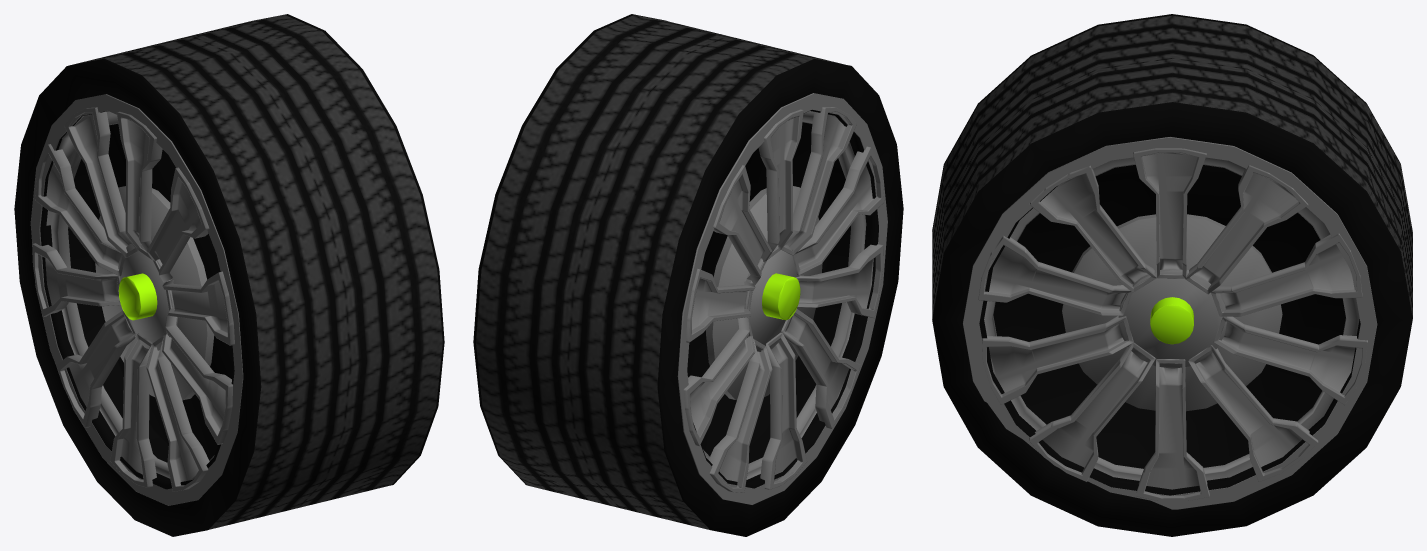
Rendered from 918_wheel.obj.
The picture shows the model from 3 angles, left to right: view 1: azimuth 30°, elevation 25°; view 2: azimuth 150°, elevation 25°; view 3: azimuth 270°, elevation 25°; orthographic projection.
Visible parts, largest first — view 1: 918car; view 2: 918car; view 3: 918car.
Part boxes in pixels (bbox=[...]): 918car: bbox=[14, 14, 444, 536]; 918car: bbox=[473, 14, 903, 536]; 918car: bbox=[932, 14, 1412, 536].
Size of the model in its own units: 0.95 by 2 by 2.
Materials: 3 (3 with a texture image).
